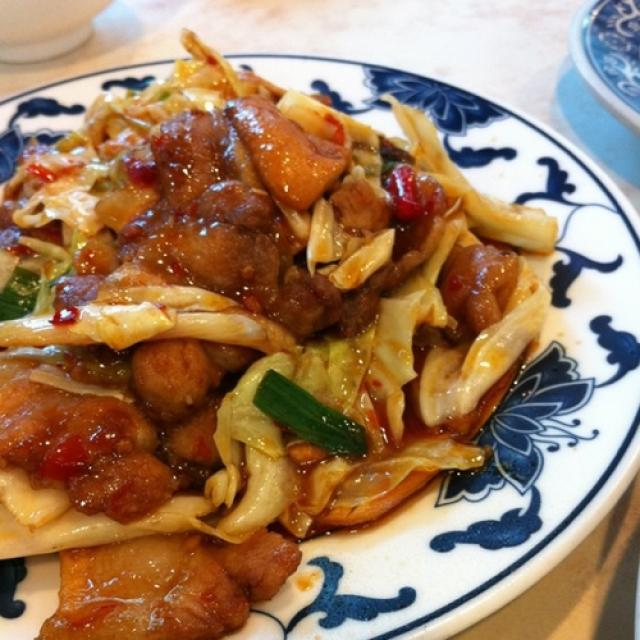猪肉菜式: (27, 37, 555, 636)
